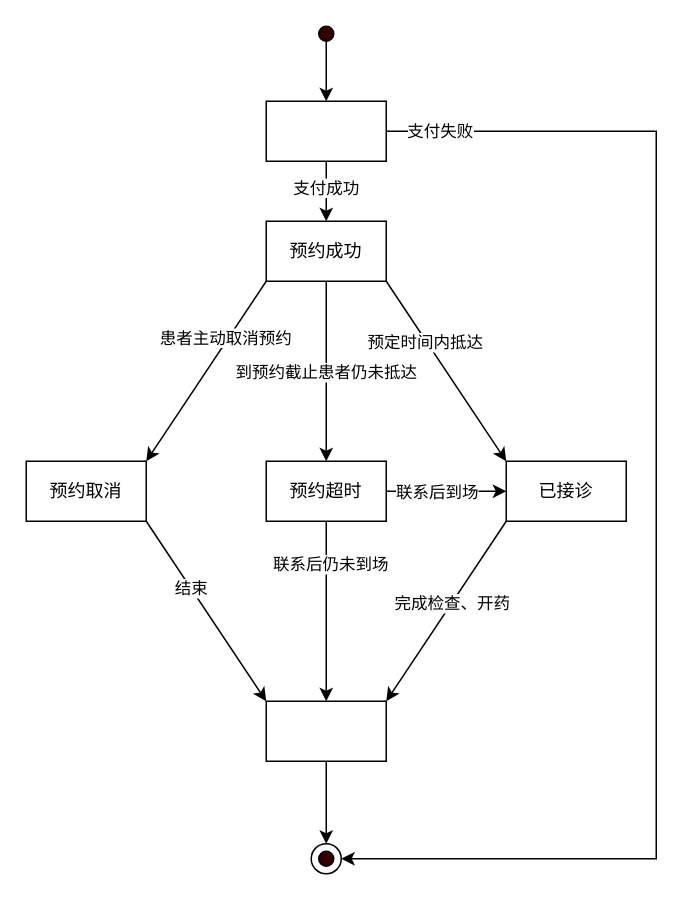
Some shapes in this 695 by 900 pixel diagram are drawn without their labels. The shapes that lost their labels are listed below. From the top down, each one's centre as x and y in pixels, then its label:
the point at 325,130: 订单产生
the point at 325,730: 接诊结束
